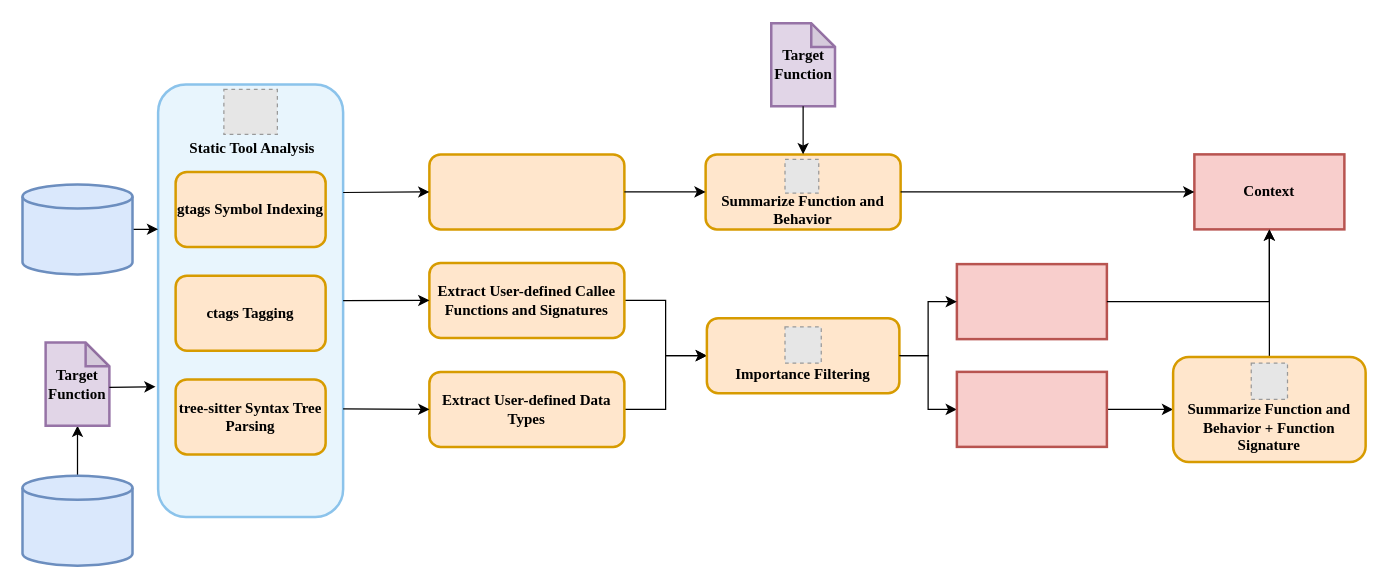
This 1389x588 diagram has some shape labels left out. Grey dashed boxes stand in for pictures. The shapes that lost their labels are listed below. From the top down, each one's centre as x and y in pixels, then its label:
the point at 526,191: Extract Most Frequently Called Functions
the point at 77,228: Project Repository
the point at 1031,301: Retained Data Types
the point at 1031,409: Retained Callee Functions
the point at 77,520: Test Set
